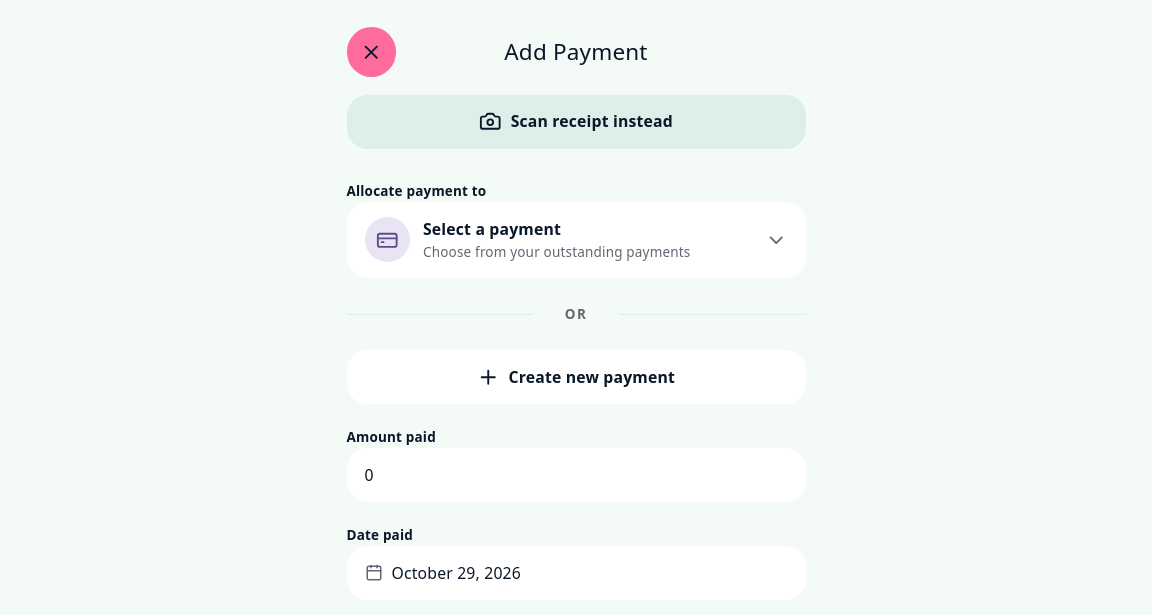
Test: PaymentForm (ObligationForm) Component › submits a partial contribution
This screenshot has width=1152, height=615.
Click the button with aria-label "Allocate payment to" at (387, 240), box [346,202,806,278]
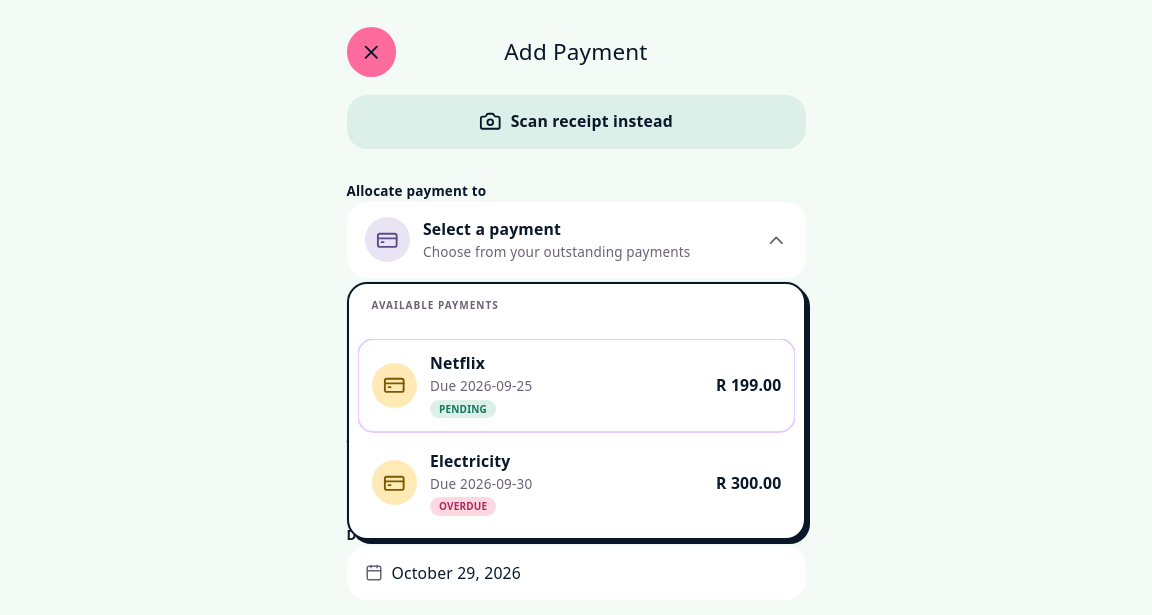
Click the button "Electricity Due 2026-09-30 OVERDUE R 300.00" at (394, 483), box [358,436,795,529]
(page scrolled)
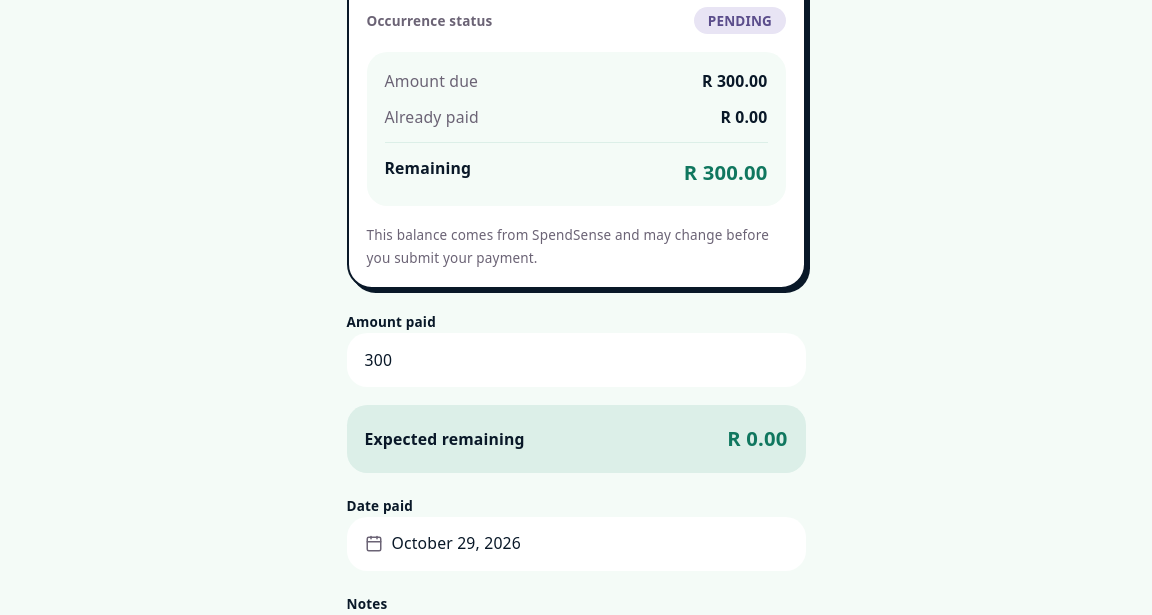
Result: the field labelled "Amount paid" holds "300"
Replace the text in the field labelled "Amount paid" with "100" at (576, 360), box [346,333,806,387]
(page scrolled)
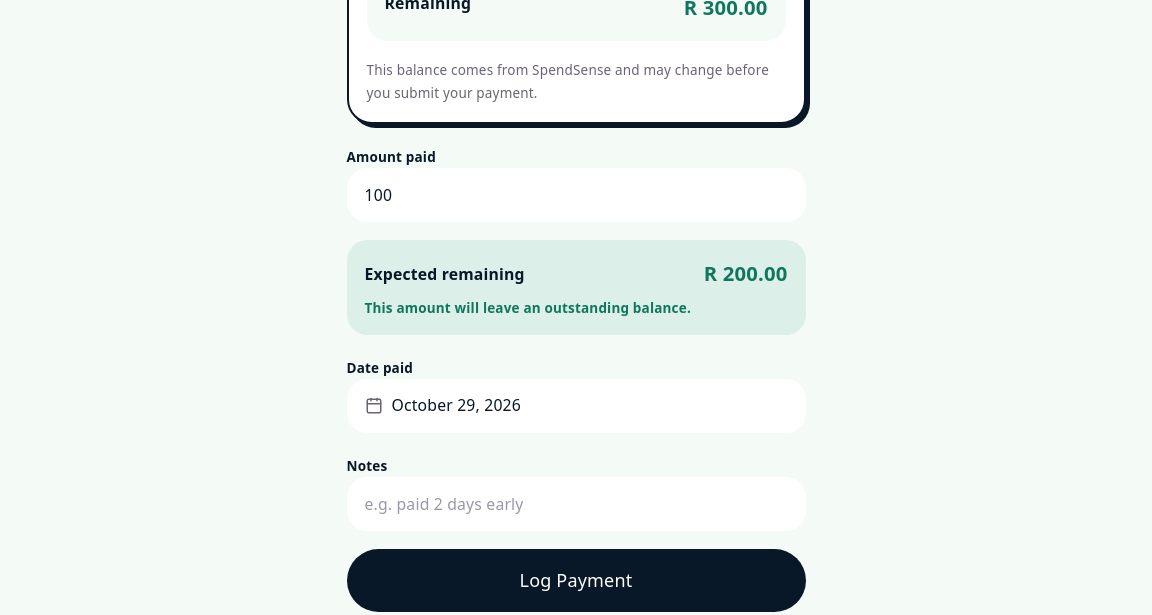
Click the button "Log Payment" at (576, 580), box [346,549,806,612]
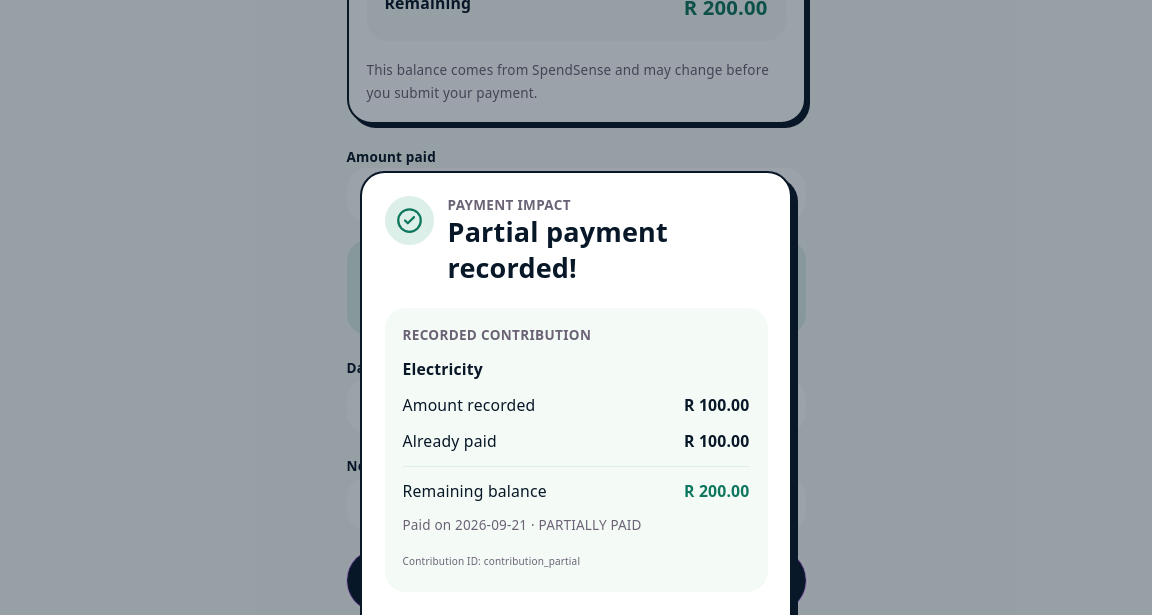
Result: the heading "Partial payment recorded!" is shown at [448,213,668,286]
Result: the text "Contribution ID: contribution_partial" is shown at [402,554,580,568]
